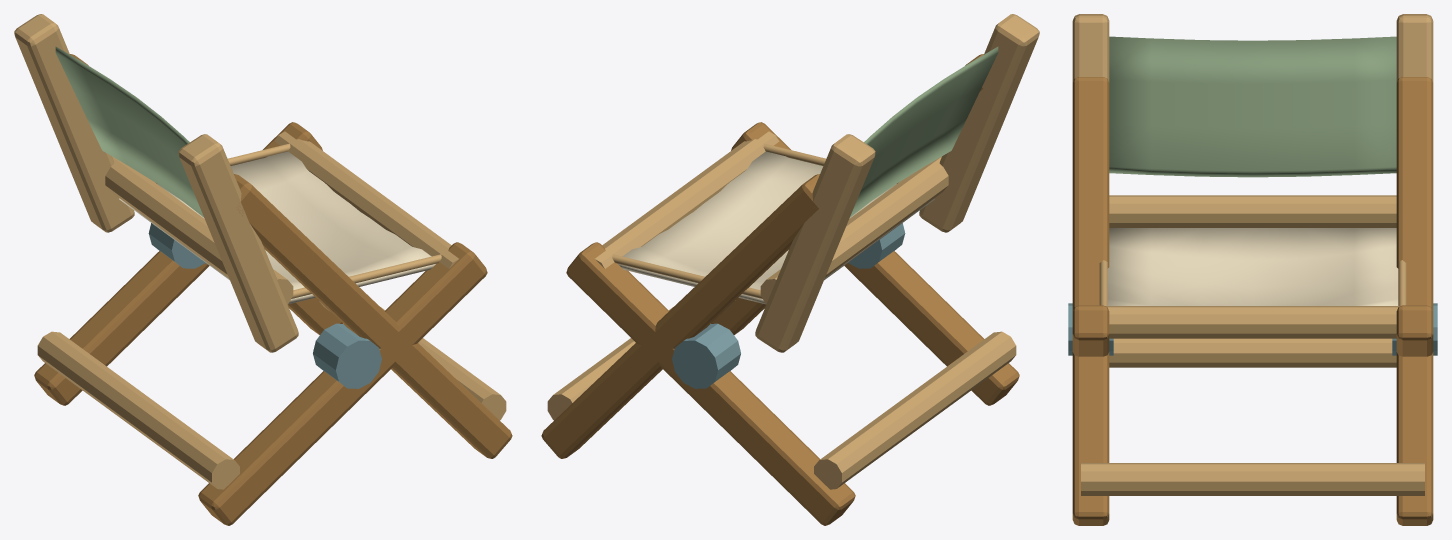
Rendered from SM_FishingChair.fbx.
The picture shows the model from 3 angles, left to right: view 1: azimuth 30°, elevation 25°; view 2: azimuth 150°, elevation 25°; view 3: azimuth 270°, elevation 25°; orthographic projection.
Visible parts, largest first — view 1: SM_FishingChair; view 2: SM_FishingChair; view 3: SM_FishingChair.
Boxes of the visible parts, left/top/right/bottom form: SM_FishingChair: left=14, top=14, right=512, bottom=525; SM_FishingChair: left=541, top=14, right=1039, bottom=525; SM_FishingChair: left=1068, top=14, right=1437, bottom=525.
Bounding box in the file's own units: 0.7216 × 0.73 × 0.8277.
